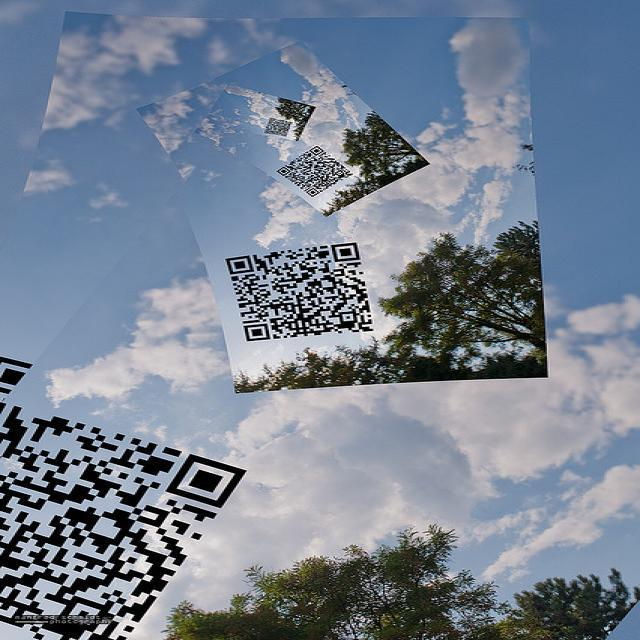qr_code: (0, 401, 247, 640), (224, 242, 372, 341), (276, 145, 353, 196), (264, 117, 292, 136)
